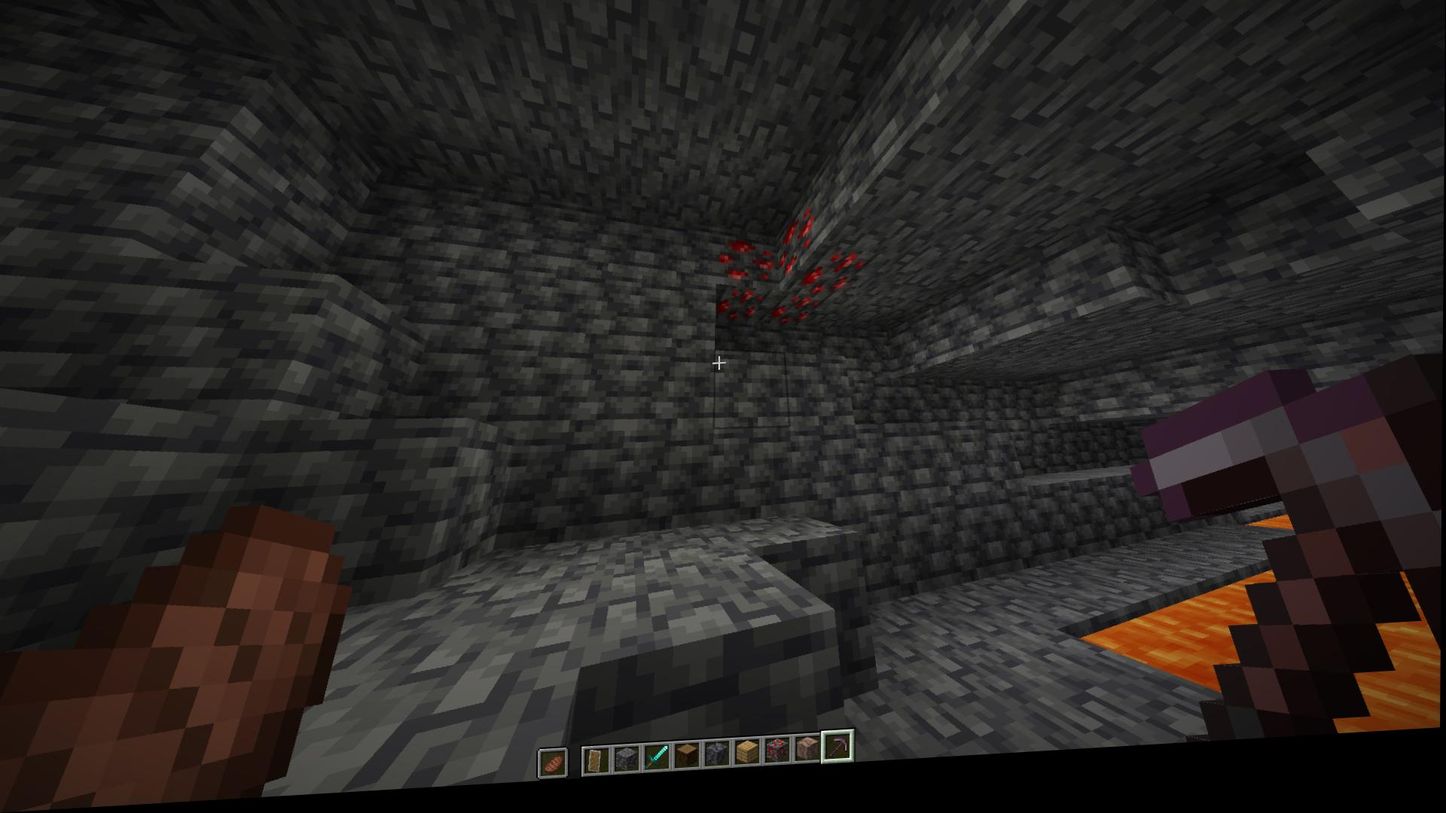redstone ore: (717, 247, 779, 297), (800, 257, 859, 304), (776, 223, 819, 284), (716, 290, 769, 339), (774, 299, 820, 339)
